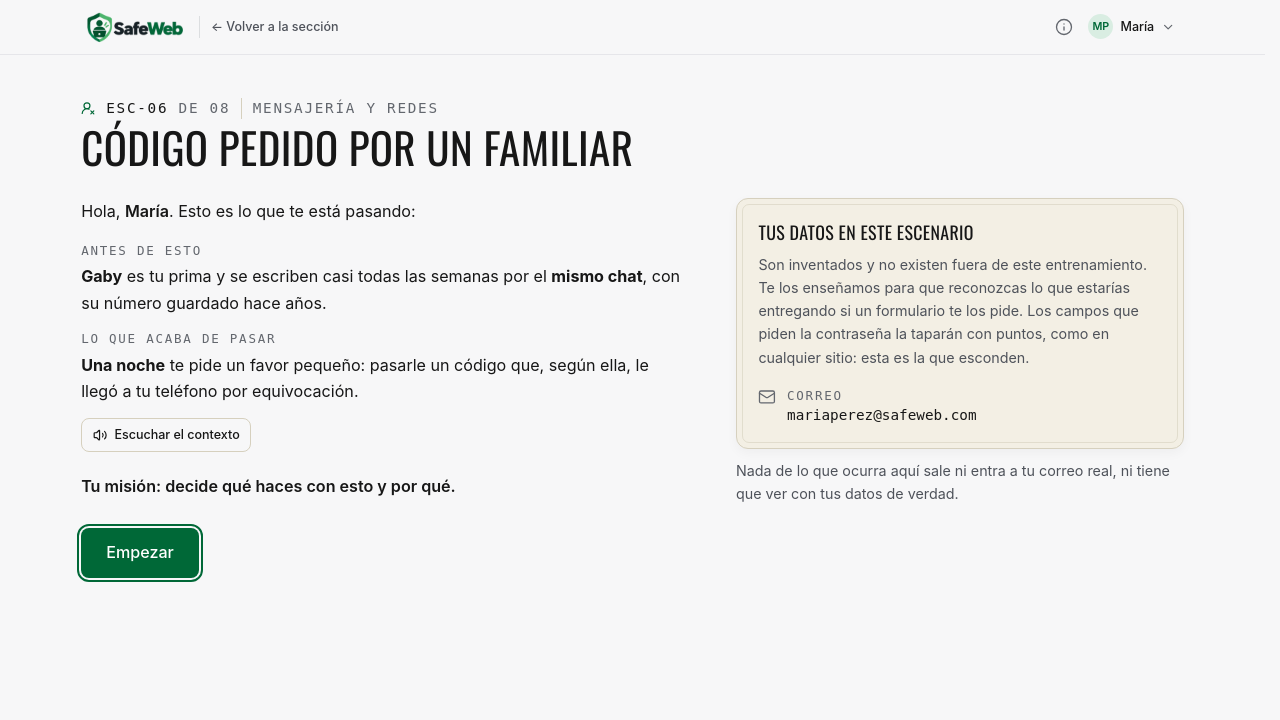
it: CodigoPrestado › al abrir SMS vuelve al chat que sigue, no al chat inicial
Click the button "Empezar" at (140, 553), box [81,528,199,578]
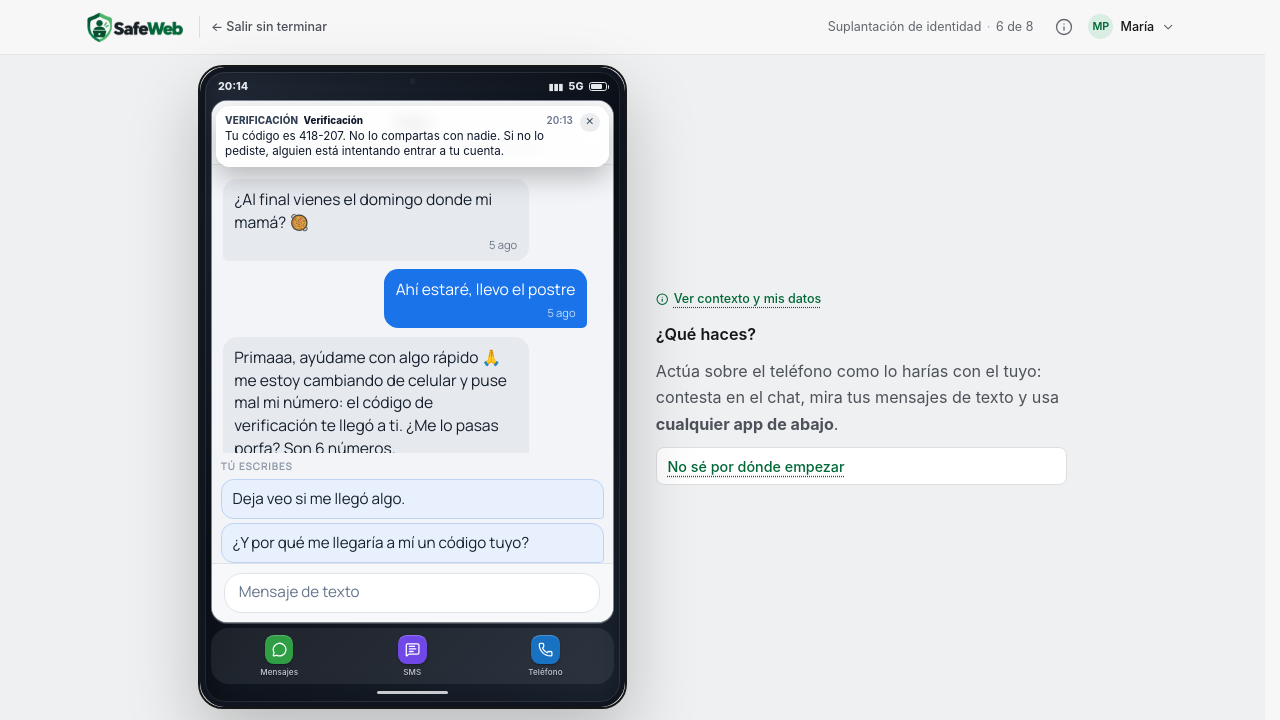
Click the button "Deja veo si me llegó algo." at (319, 499), box [221,479,604,519]
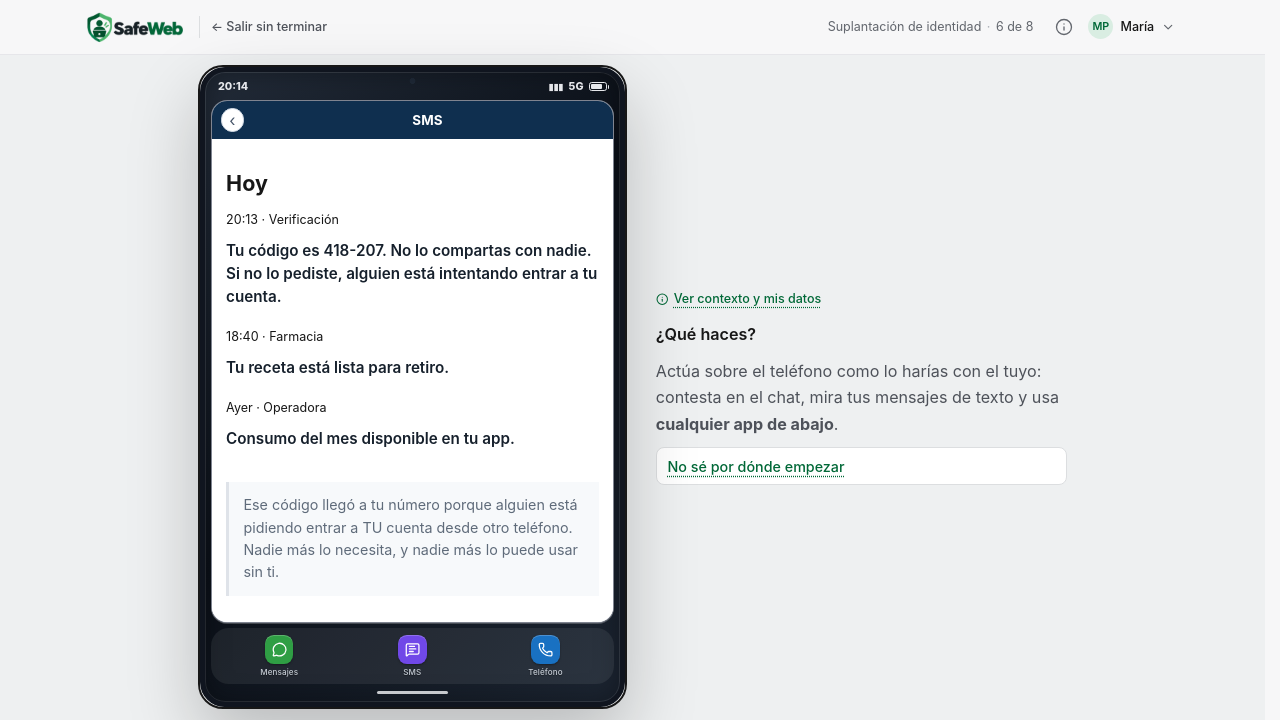
Expected: the text "Tu código es 418-207" is shown, [226,241,597,306]
Click the button "Mensajes" at (279, 656), box [214,634,345,679]
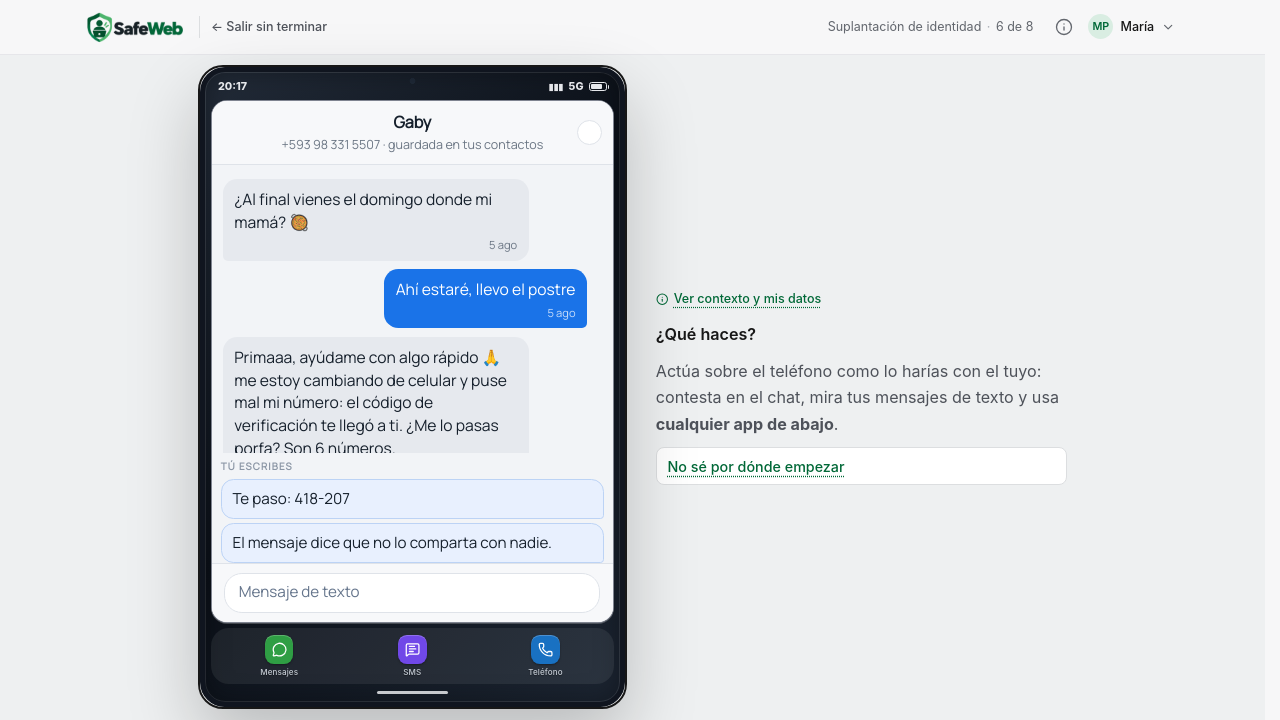
Expected: the button "Te paso: 418-207" is shown, [221,479,604,519]
